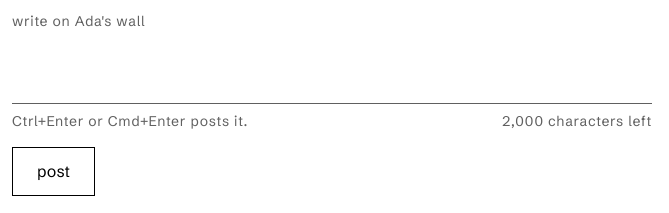
it: WallComposer › F-66, F-73: posts the trimmed text with the CSRF token, then clears the draft and says so
Type "  Dinner at ours on Friday?  " into the text box labelled "write on Ada's wall" at (332, 72), box x1=12 y1=40 x2=652 y2=104
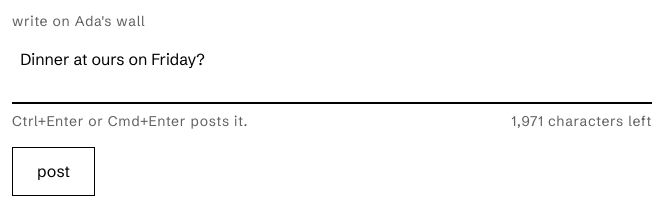
Click the button "post" at (54, 172), box x1=12 y1=147 x2=95 y2=196
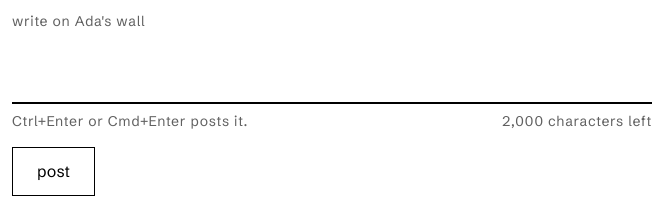
Result: the text box labelled "write on Ada's wall" is empty at x1=12 y1=40 x2=652 y2=104
